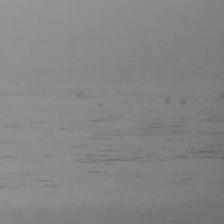surfer: (75, 91, 84, 97), (180, 99, 188, 105), (164, 97, 170, 103), (218, 92, 223, 99), (96, 102, 102, 107)
